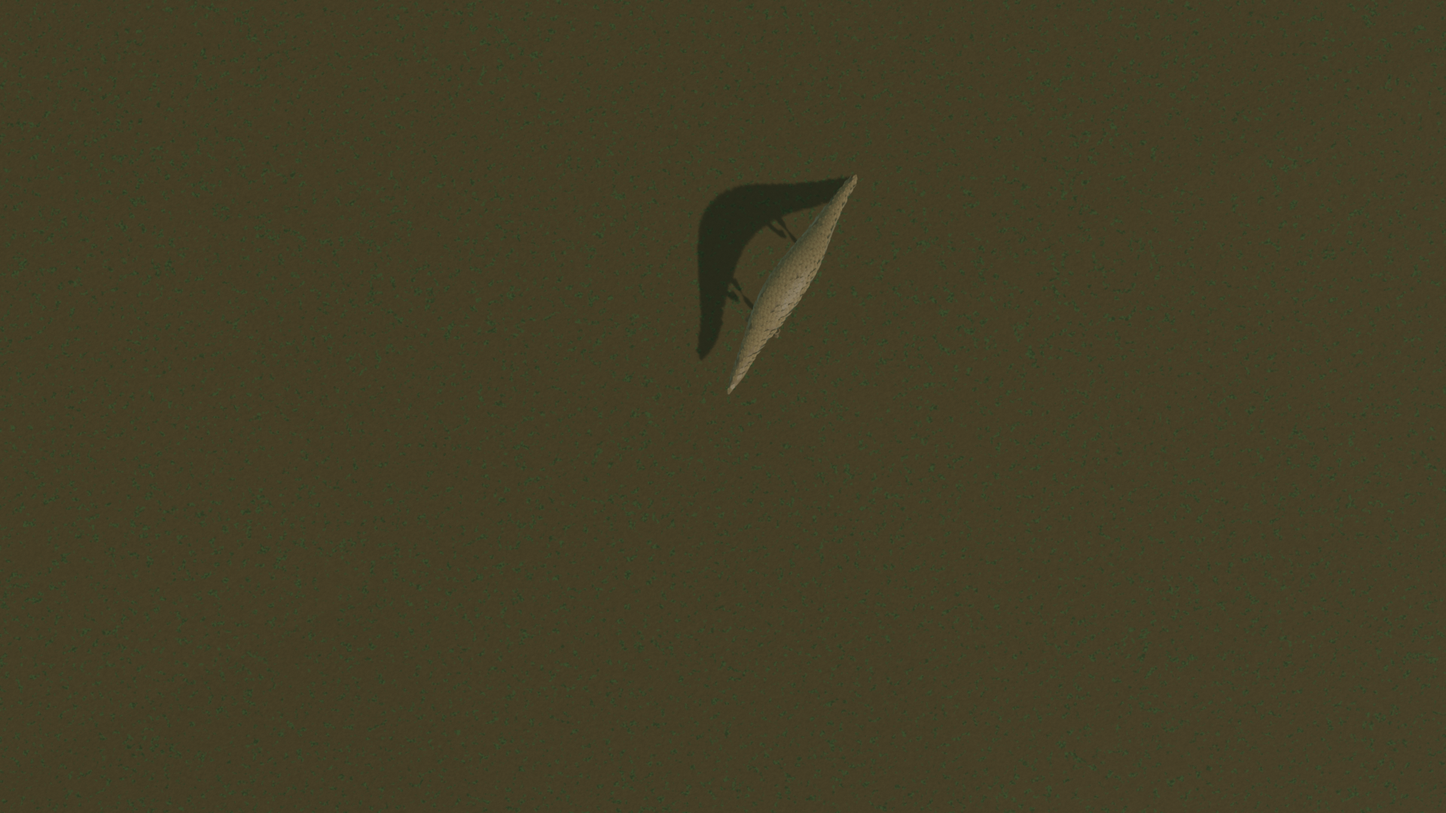pangolin: (717, 108, 888, 407)
